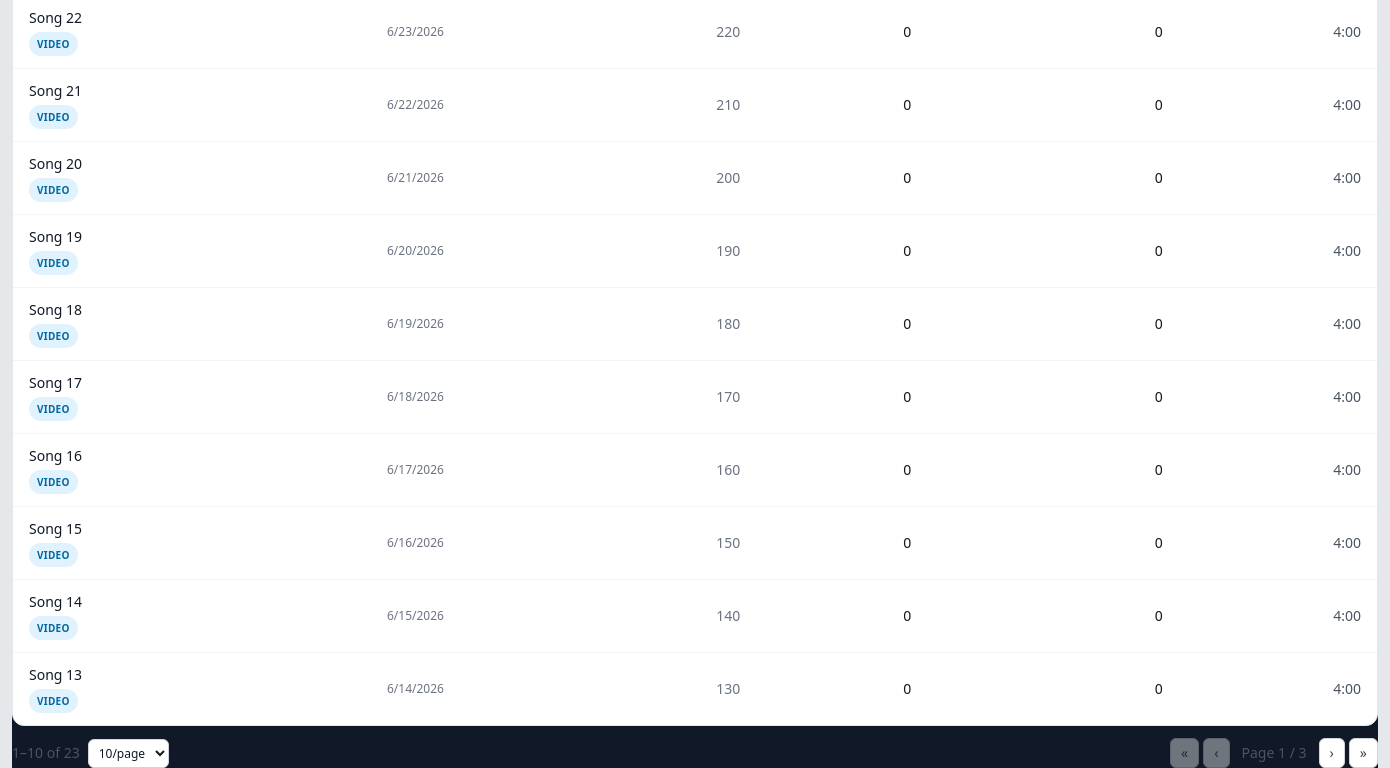
it: YouTubeVideosPanel › paginates: shows 10 rows and advances pages
(page scrolled)
Expected: the text "1–10 of 23" is shown, [12,743,80,763]
Expected: the text "Page 1 / 3" is shown, [1242,743,1306,762]
Click the button named "Next" at {"x": 1332, "y": 753}, box [1318,738,1345,767]
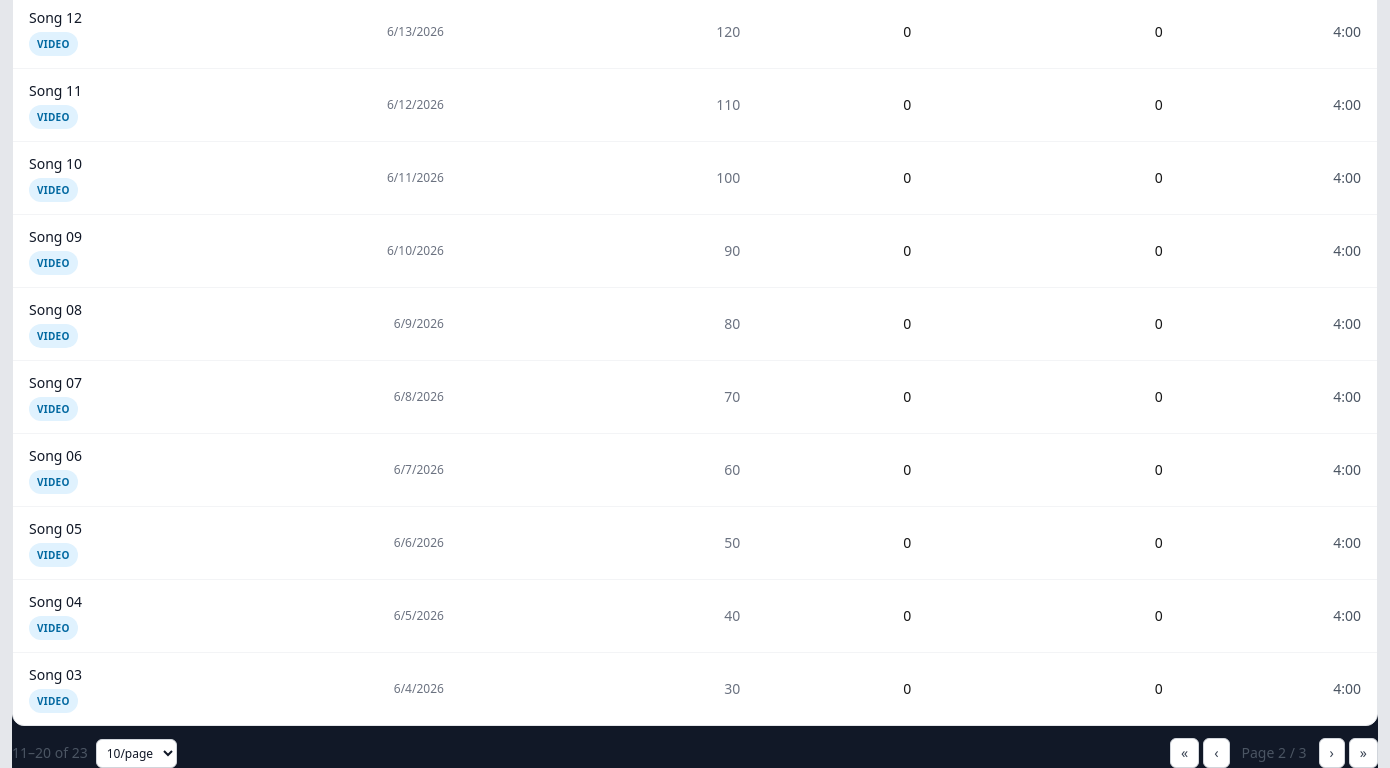
Expected: the text "11–20 of 23" is shown, [12,743,88,763]
Expected: the text "Page 2 / 3" is shown, [1242,743,1306,762]
Note: First/Previous disabled on page 1
Click the button named "First" at {"x": 1185, "y": 753}, box [1170,738,1199,767]
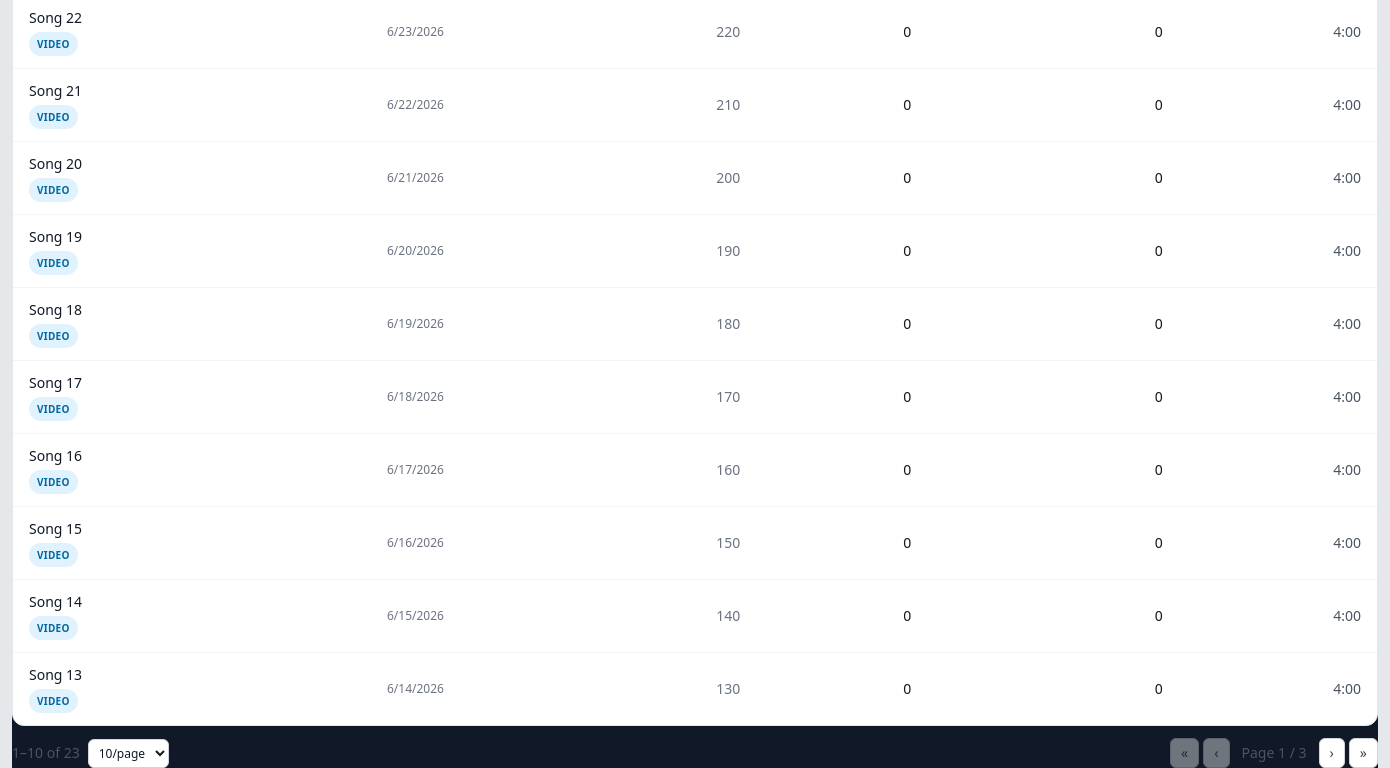
Expected: the button named "Previous" is disabled, [1203,738,1230,767]
